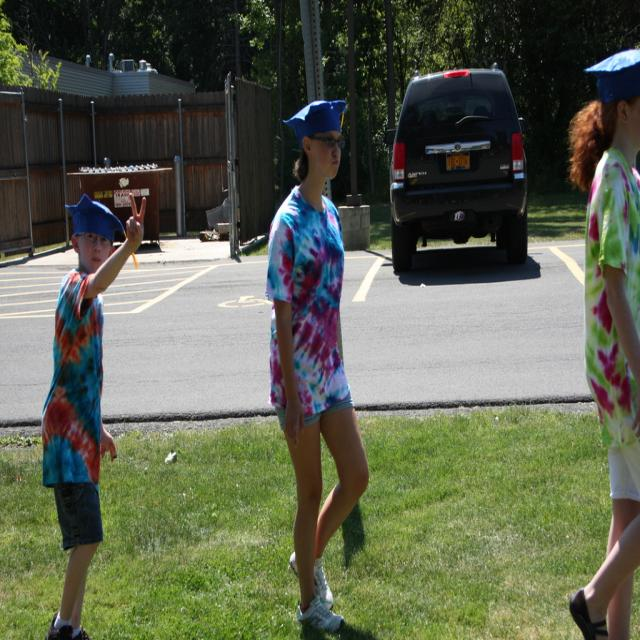car: (386, 65, 531, 285)
